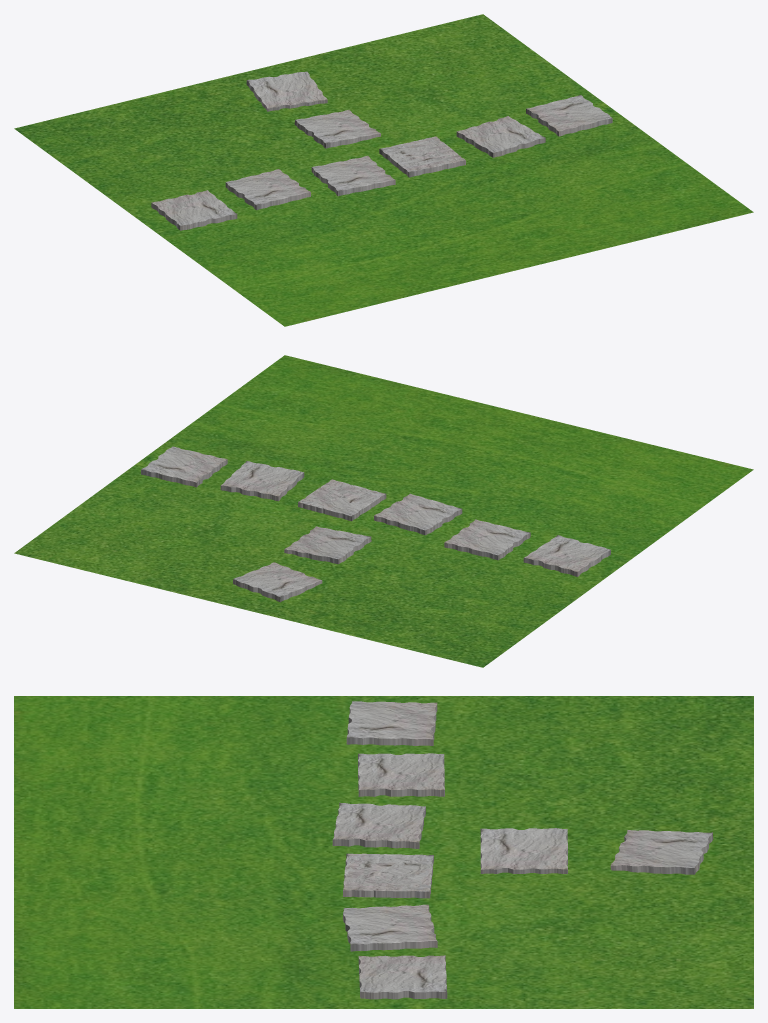
The model's file is pathWNE.glb.
3 views of the same model, one above another, from view 1: azimuth 30°, elevation 25°; view 2: azimuth 150°, elevation 25°; view 3: azimuth 270°, elevation 25° (orthographic). The views are drawn at different scales.
Parts seen in each view (by area): view 1: Plane, Plane.010, Plane.003, Plane.001, Plane.007, Plane.005, Plane.006, Plane.009, Plane.004, Plane.002; view 2: Plane, Plane.005, Plane.007, Plane.001, Plane.003, Plane.006, Plane.009, Plane.010, Plane.004, Plane.002; view 3: Plane, Plane.009, Plane.003, Plane.007, Plane.005, Plane.001, Plane.006, Plane.010, Plane.004, Plane.002.
Boxes of the visible parts, x1=… form: Plane: x1=14, y1=14, x2=753, y2=326; Plane.010: x1=246, y1=71, x2=327, y2=111; Plane.003: x1=456, y1=116, x2=545, y2=157; Plane.001: x1=526, y1=95, x2=612, y2=136; Plane.007: x1=151, y1=190, x2=237, y2=230; Plane.005: x1=311, y1=155, x2=395, y2=196; Plane.006: x1=225, y1=169, x2=310, y2=210; Plane.009: x1=294, y1=110, x2=380, y2=148; Plane.004: x1=382, y1=136, x2=465, y2=177; Plane.002: x1=379, y1=137, x2=464, y2=174; Plane: x1=14, y1=355, x2=753, y2=667; Plane.005: x1=374, y1=493, x2=462, y2=535; Plane.007: x1=523, y1=535, x2=610, y2=576; Plane.001: x1=141, y1=446, x2=227, y2=487; Plane.003: x1=220, y1=461, x2=304, y2=501; Plane.006: x1=444, y1=519, x2=530, y2=560; Plane.009: x1=284, y1=526, x2=371, y2=564; Plane.010: x1=233, y1=562, x2=322, y2=602; Plane.004: x1=298, y1=479, x2=386, y2=520; Plane.002: x1=299, y1=479, x2=384, y2=521; Plane: x1=14, y1=696, x2=753, y2=1008; Plane.009: x1=480, y1=828, x2=567, y2=873; Plane.003: x1=343, y1=904, x2=437, y2=951; Plane.007: x1=346, y1=701, x2=437, y2=745; Plane.005: x1=332, y1=802, x2=425, y2=848; Plane.001: x1=358, y1=955, x2=447, y2=999; Plane.006: x1=358, y1=753, x2=444, y2=796; Plane.010: x1=610, y1=830, x2=713, y2=874; Plane.004: x1=343, y1=853, x2=433, y2=898; Plane.002: x1=343, y1=853, x2=433, y2=898.
Size of the model in its own units: 1 by 0.0172 by 1.
Materials: 6 (6 with a texture image).
